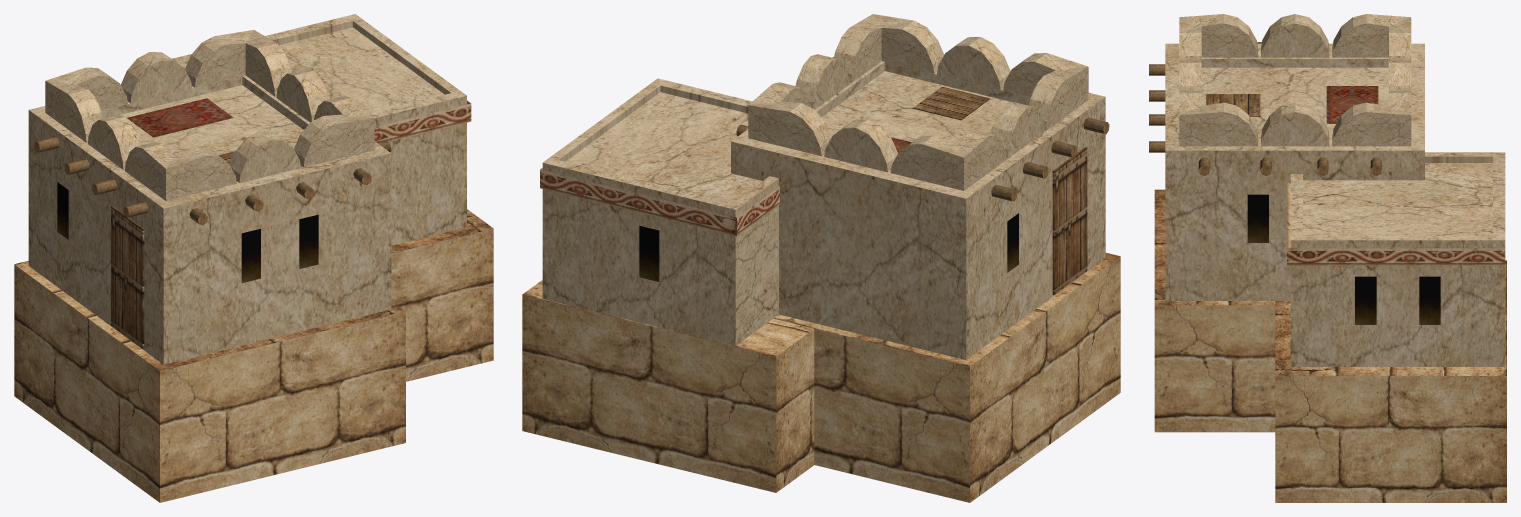
File: house_02.dae
3 views of the same model, side by side, from view 1: azimuth 30°, elevation 25°; view 2: azimuth 150°, elevation 25°; view 3: azimuth 270°, elevation 25° (orthographic). The views are drawn at different scales.
Parts seen in each view (by area): view 1: house_02; view 2: house_02; view 3: house_02.
Part boxes in pixels (x1,y1,x2,y2): house_02: [14, 14, 493, 502]; house_02: [522, 14, 1120, 502]; house_02: [1149, 14, 1506, 502].
Size of the model in its own units: 18.78 by 14.87 by 14.28.
